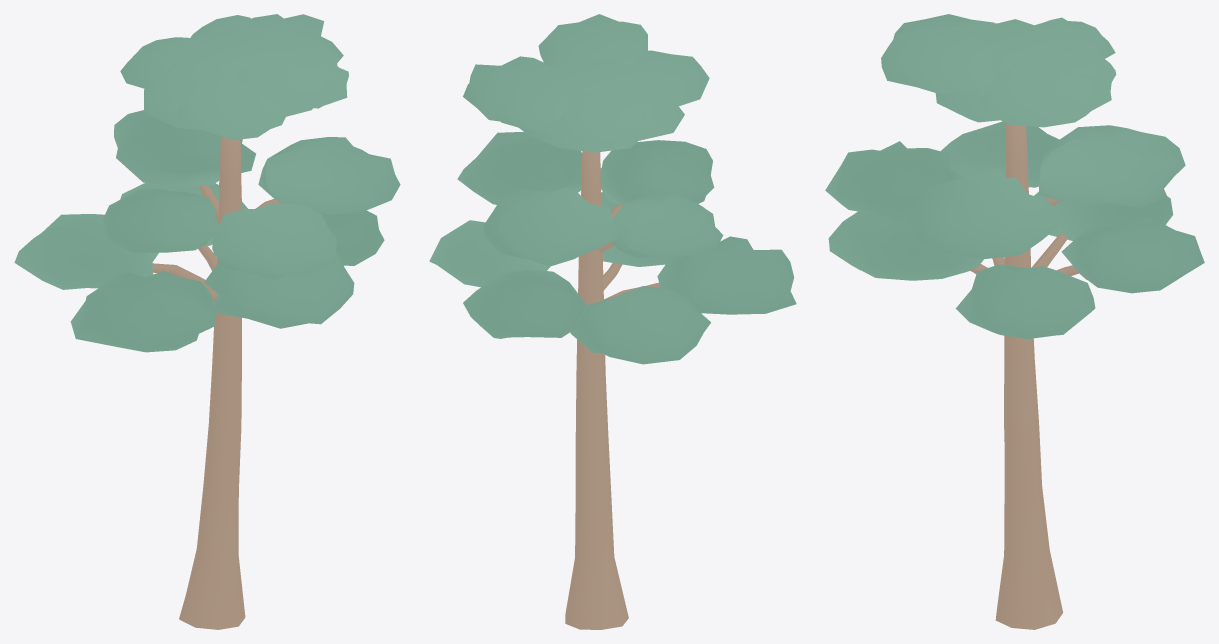
File: Blender_Pine_2.glb
3 views of the same model, side by side, from view 1: azimuth 30°, elevation 25°; view 2: azimuth 150°, elevation 25°; view 3: azimuth 270°, elevation 25° (orthographic). The views are drawn at different scales.
Visible parts, largest first — view 1: Blender_Pine_2; view 2: Blender_Pine_2; view 3: Blender_Pine_2.
Boxes of the visible parts, x1,y1,x2,y2 form: Blender_Pine_2: [14, 14, 400, 629]; Blender_Pine_2: [429, 14, 796, 629]; Blender_Pine_2: [825, 14, 1204, 629].
Bounding box in the file's own units: 11.15 × 18.4 × 10.59.
